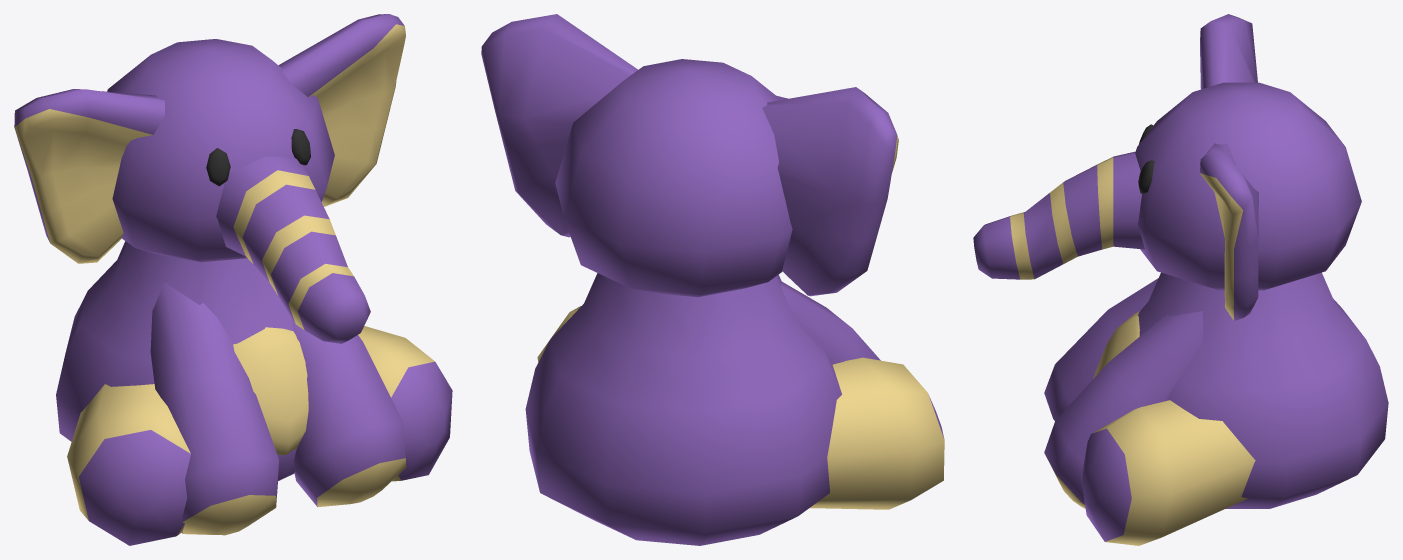
Rendered from Elephant.fbx.
The picture shows the model from 3 angles, left to right: view 1: azimuth 30°, elevation 25°; view 2: azimuth 150°, elevation 25°; view 3: azimuth 270°, elevation 25°; orthographic projection. The views are drawn at different scales.
Visible parts, largest first — view 1: Elephant; view 2: Elephant; view 3: Elephant.
Boxes of the visible parts, left/top/right/bottom form: Elephant: left=14, top=14, right=452, bottom=545; Elephant: left=481, top=14, right=944, bottom=545; Elephant: left=973, top=14, right=1388, bottom=545.
Size of the model in its own units: 4.23 by 4.49 by 4.18.
